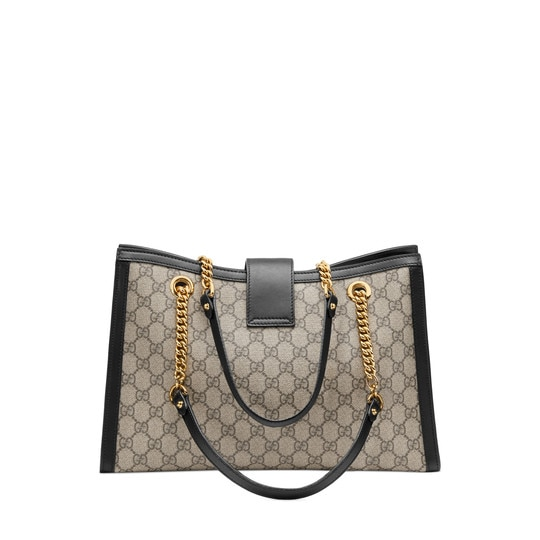Gucci: (82, 210, 466, 495), (233, 334, 314, 406)
